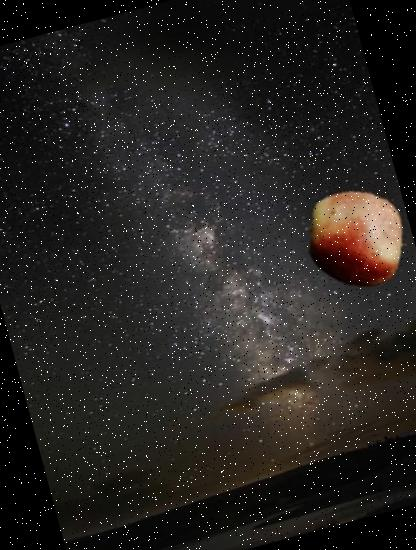Apple: (293, 176, 416, 302)
